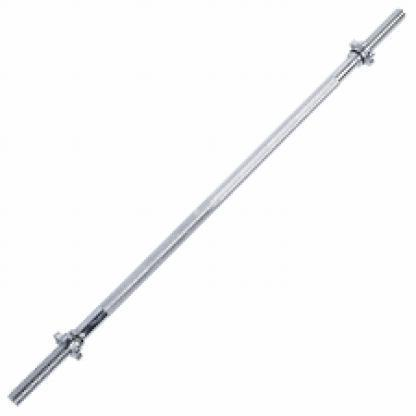Barbell: (3, 380, 31, 415)
